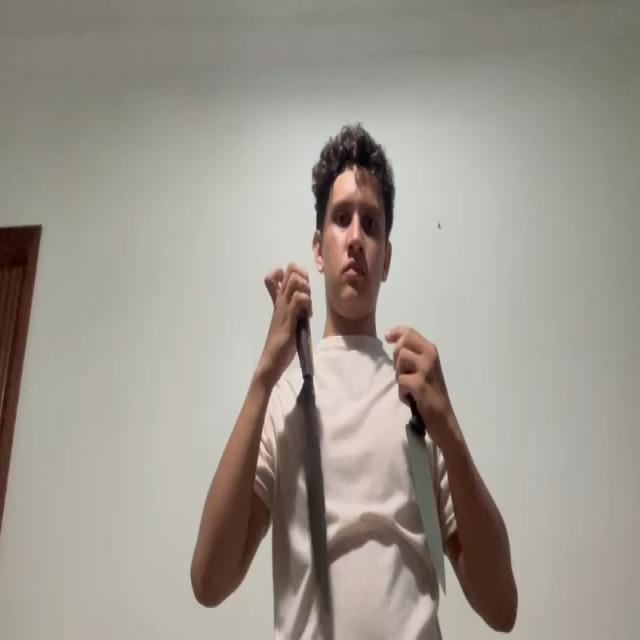knife: (296, 376, 330, 608), (406, 418, 448, 592)
